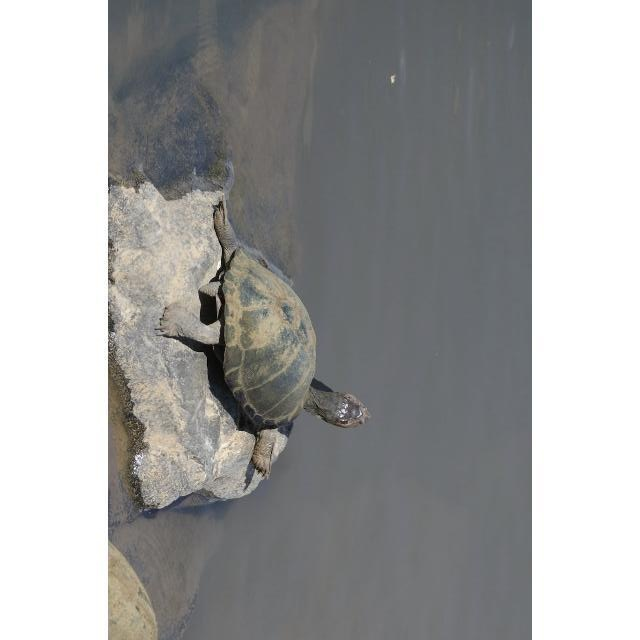turtle: (156, 201, 370, 478)
